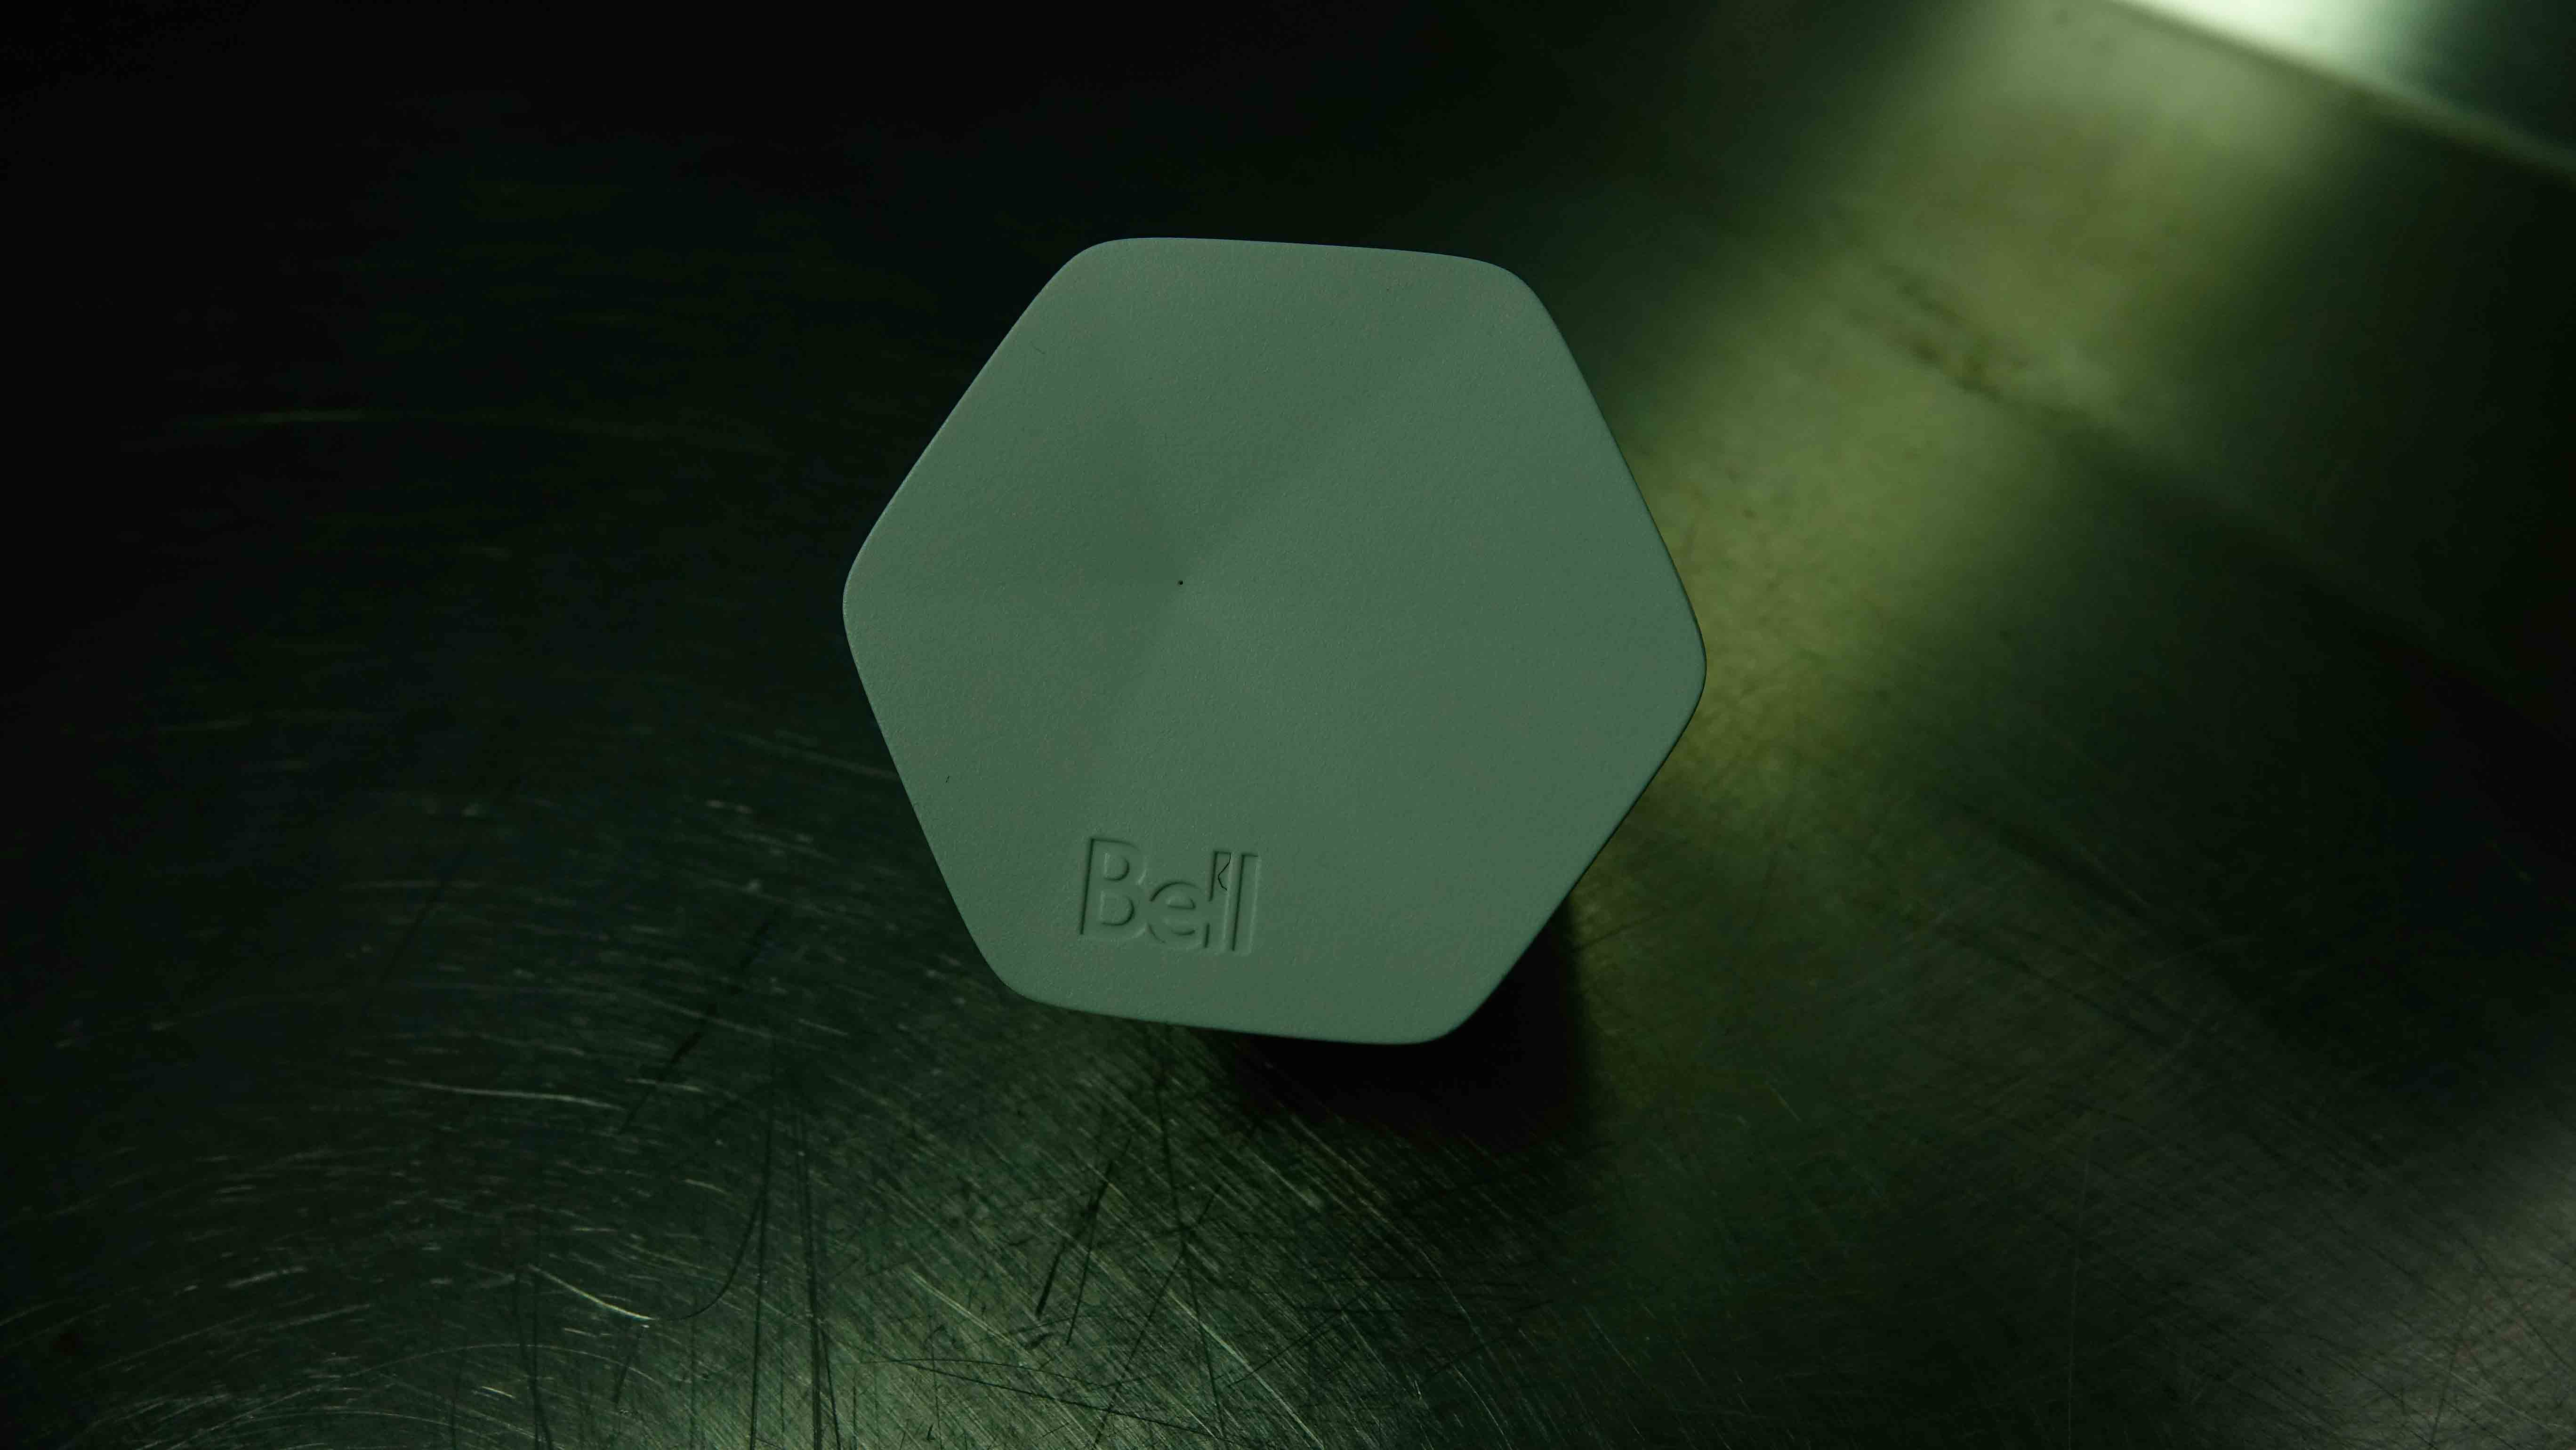pod: (824, 221, 1721, 1072)
